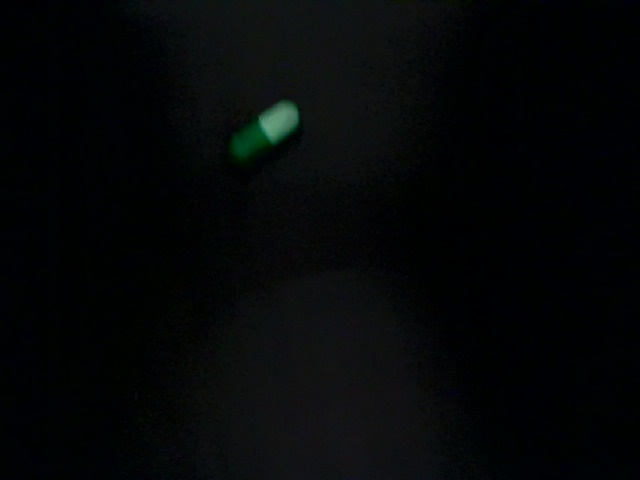YHLJ: (183, 327, 479, 408)
